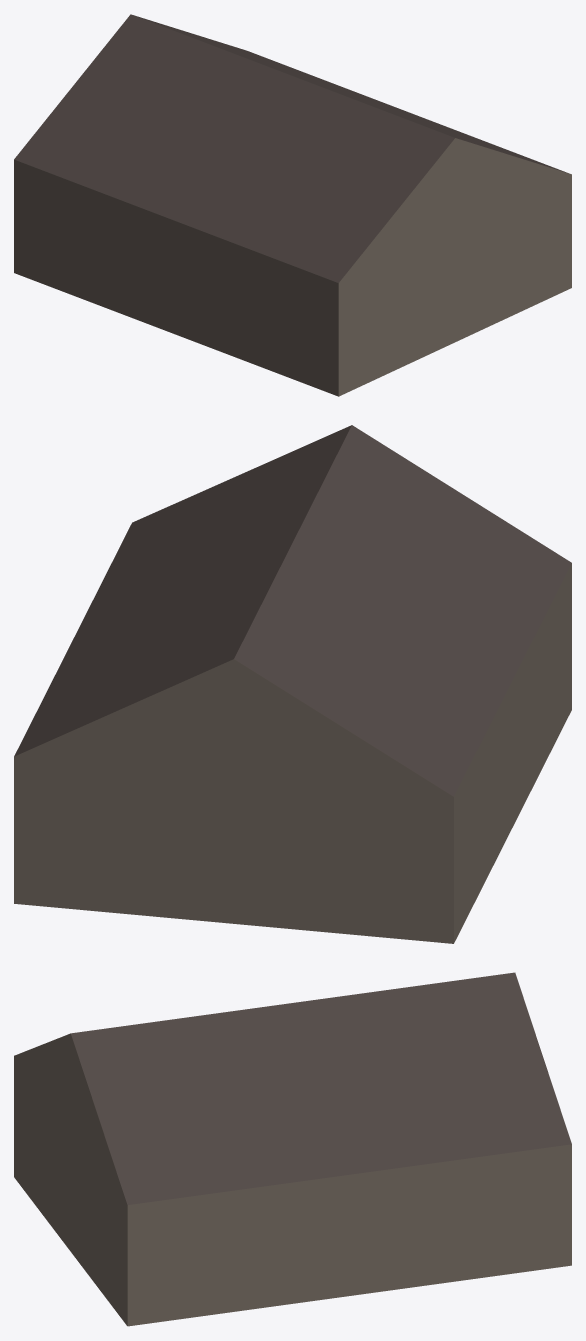
3 views of the same model, one above another, from view 1: azimuth 30°, elevation 25°; view 2: azimuth 150°, elevation 25°; view 3: azimuth 270°, elevation 25° (orthographic). The views are drawn at different scales.
Visible parts, largest first — view 1: HP-w859457320; view 2: HP-w859457320; view 3: HP-w859457320.
Part boxes in pixels (x1=…): HP-w859457320: x1=14, y1=14, x2=571, y2=396; HP-w859457320: x1=14, y1=425, x2=571, y2=943; HP-w859457320: x1=14, y1=972, x2=571, y2=1326.
Size of the model in its own units: 22.31 by 10.8 by 25.01.
